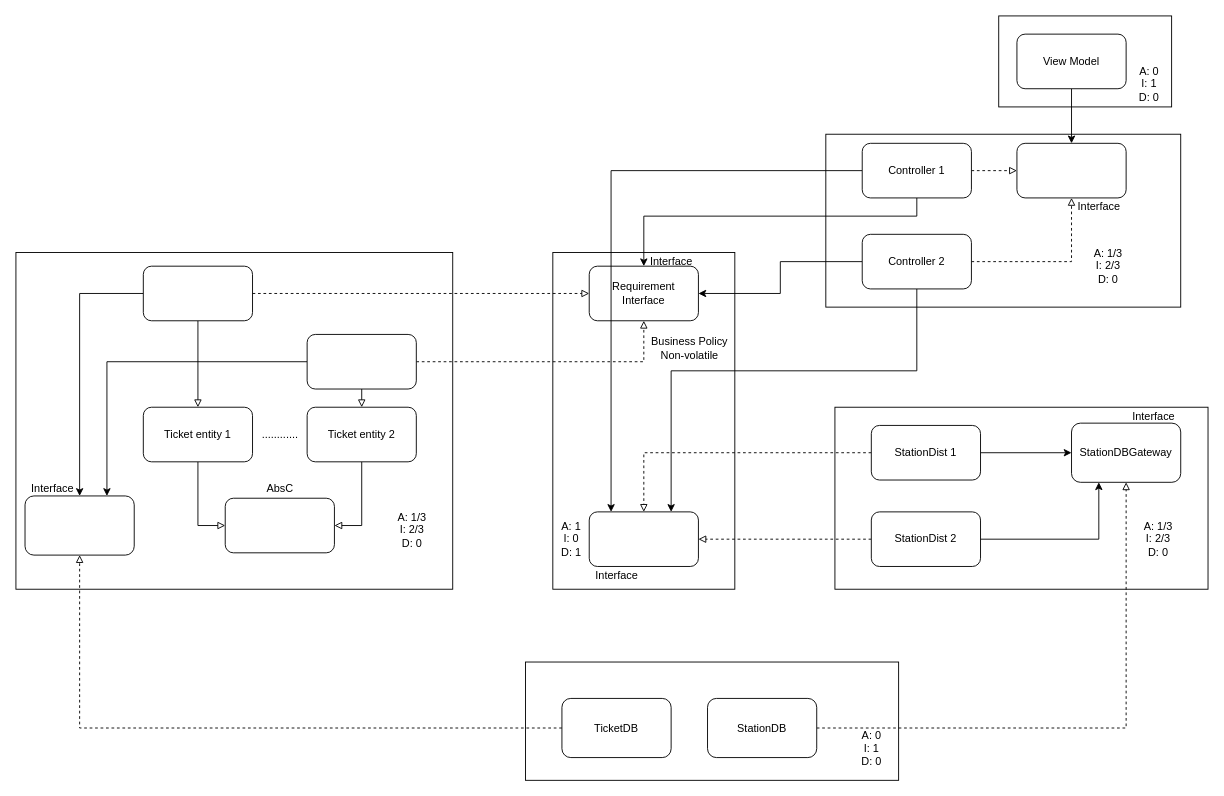
This 1224x796 diagram has some shape labels left out. The centre of each missing label's shape, as x and y in pixels:
Certificate: (279,525)
ControllerInterface: (1071,170)
Requirement 1: (197,293)
Requirement 2: (361,361)
StationDist Interface: (643,538)
TicketDBGateway: (79,525)
